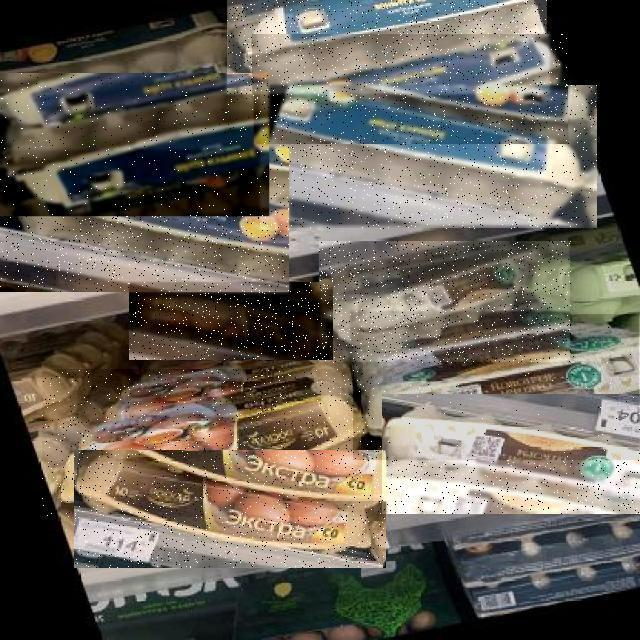Eggs: (43, 369, 375, 517), (260, 86, 597, 230), (353, 314, 639, 460), (0, 151, 289, 293), (0, 73, 269, 216), (74, 450, 386, 568), (254, 34, 568, 144), (382, 394, 640, 514), (320, 242, 572, 364), (228, 0, 550, 94), (129, 282, 333, 360)
